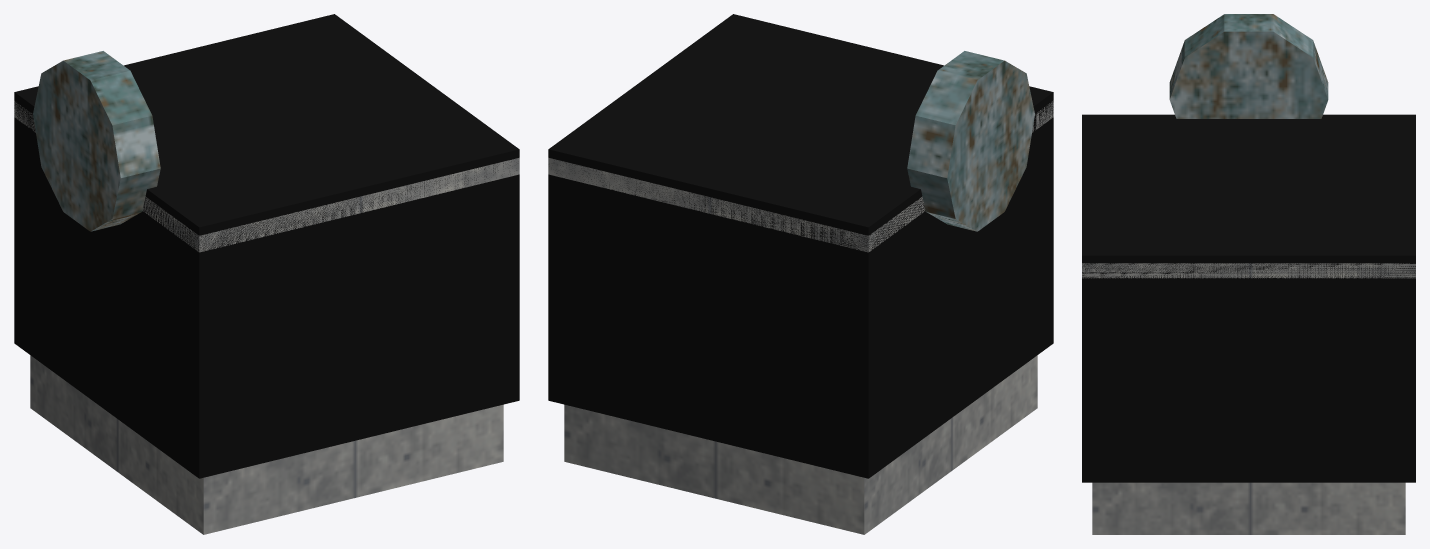
Rendered from pipe_block.fbx.
3 views of the same model, side by side, from view 1: azimuth 30°, elevation 25°; view 2: azimuth 150°, elevation 25°; view 3: azimuth 270°, elevation 25° (orthographic). The views are drawn at different scales.
Visible parts, largest first — view 1: col_block, pipe_block; view 2: col_block, pipe_block; view 3: col_block, pipe_block.
Boxes of the visible parts, x1=… form: col_block: x1=14, y1=14, x2=519, y2=478; pipe_block: x1=14, y1=51, x2=519, y2=534; col_block: x1=548, y1=14, x2=1053, y2=478; pipe_block: x1=548, y1=51, x2=1053, y2=534; col_block: x1=1082, y1=114, x2=1415, y2=482; pipe_block: x1=1082, y1=14, x2=1415, y2=534.
Size of the model in its own units: 1.75 by 1.96 by 1.6.
Materials: 3 (3 with a texture image).
